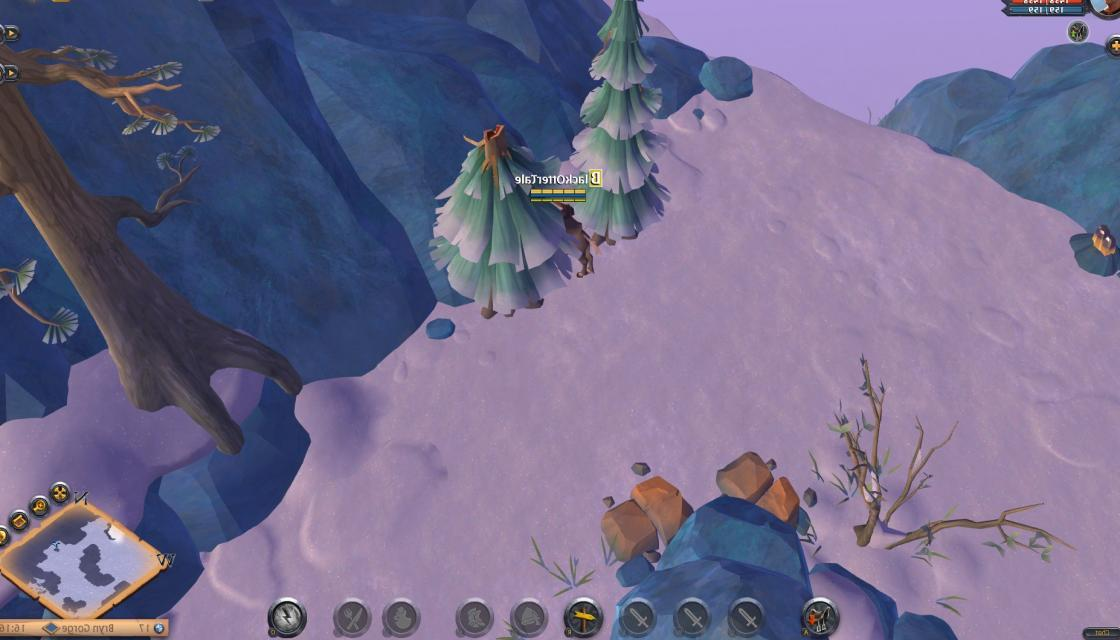copperore: (1070, 220, 1120, 282)
limestone: (601, 472, 694, 573), (718, 449, 802, 524)
